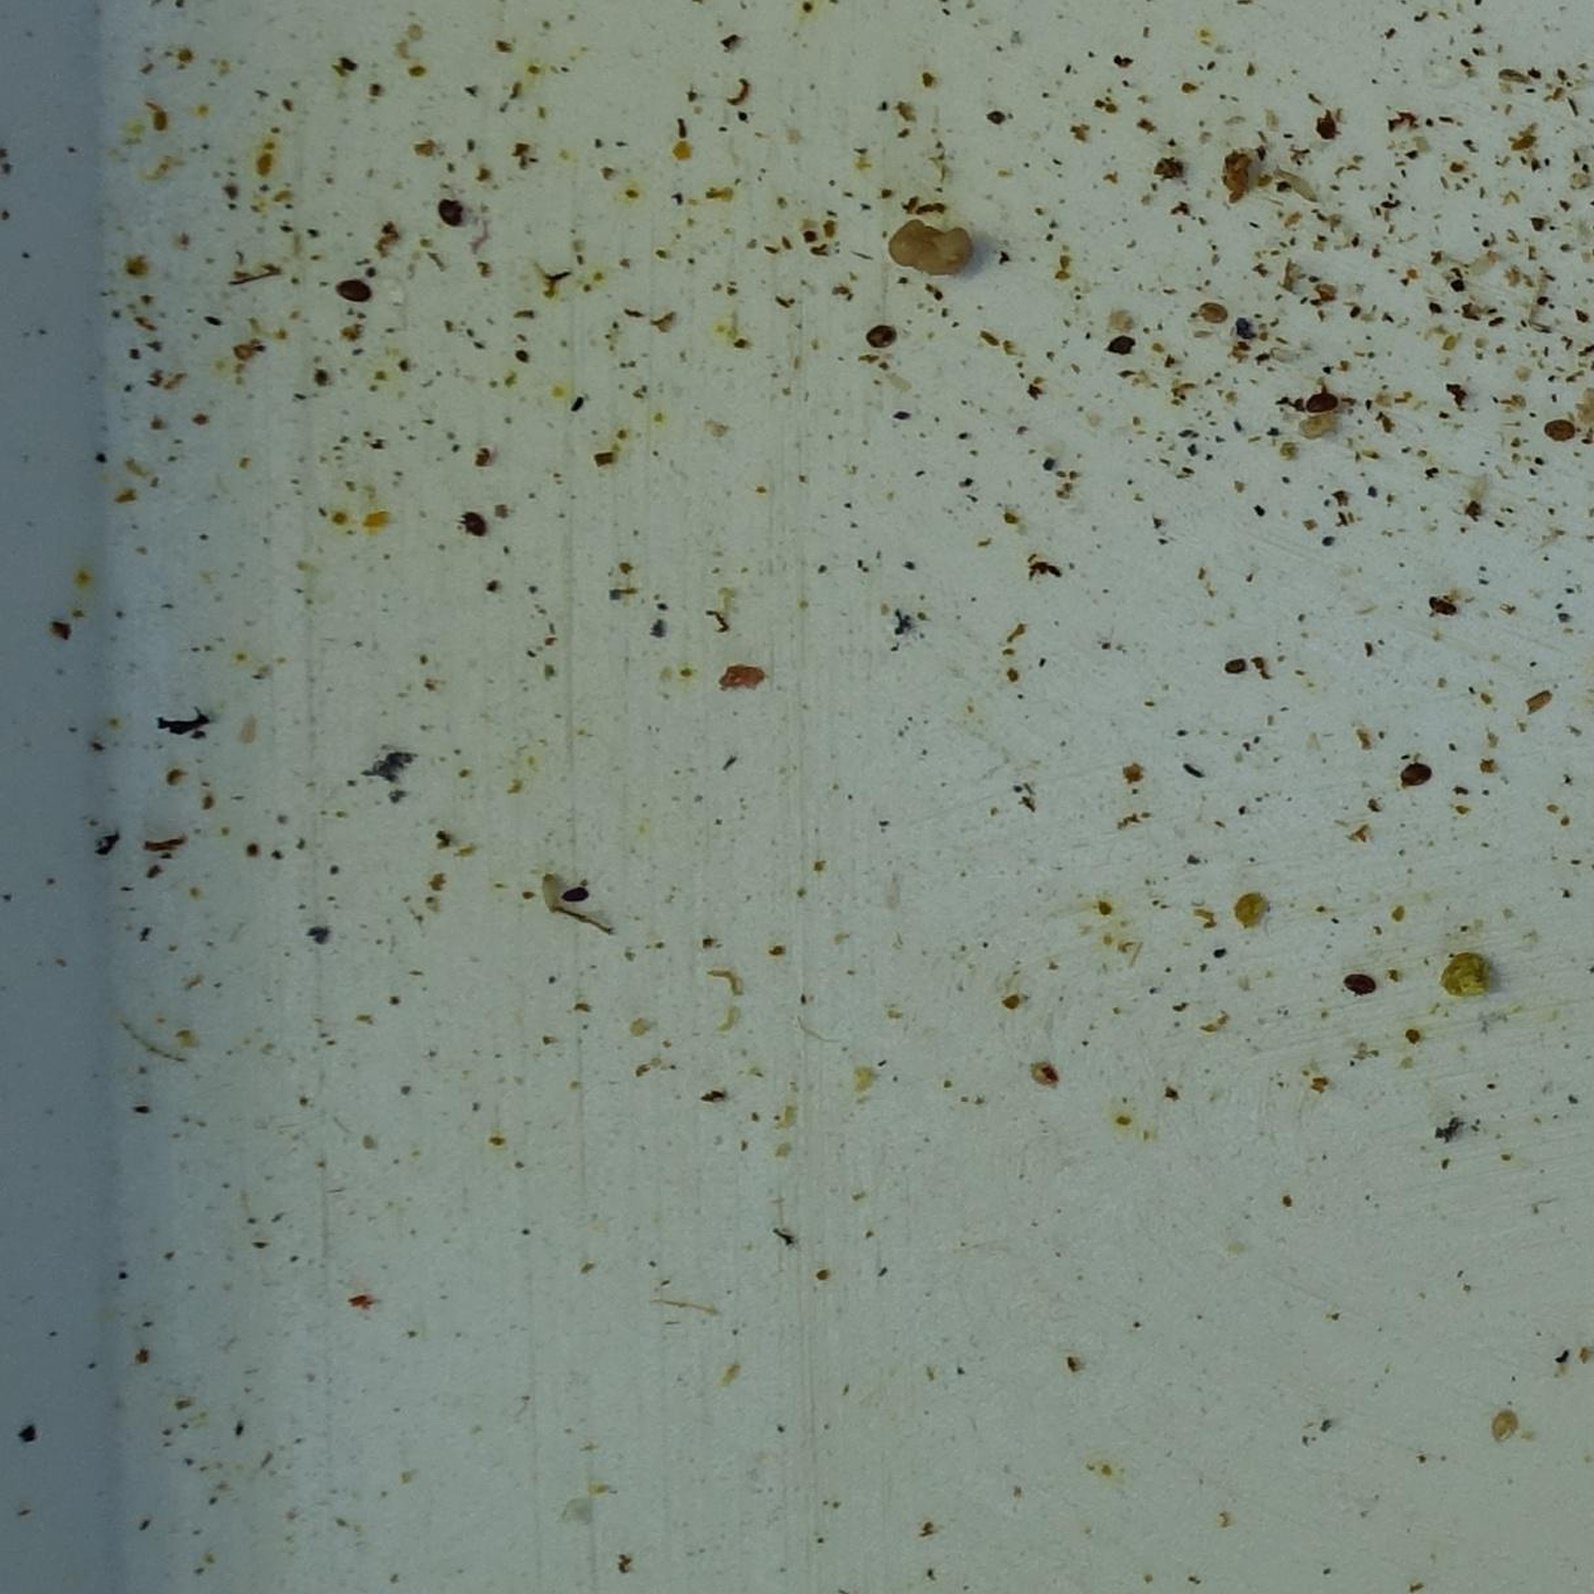Varroa: (1311, 384, 1337, 412), (1198, 301, 1225, 327), (1350, 969, 1375, 996), (1412, 763, 1433, 788), (347, 285, 369, 307), (438, 201, 458, 223), (885, 328, 906, 347), (866, 330, 885, 350), (1556, 420, 1575, 438), (467, 509, 485, 528)
